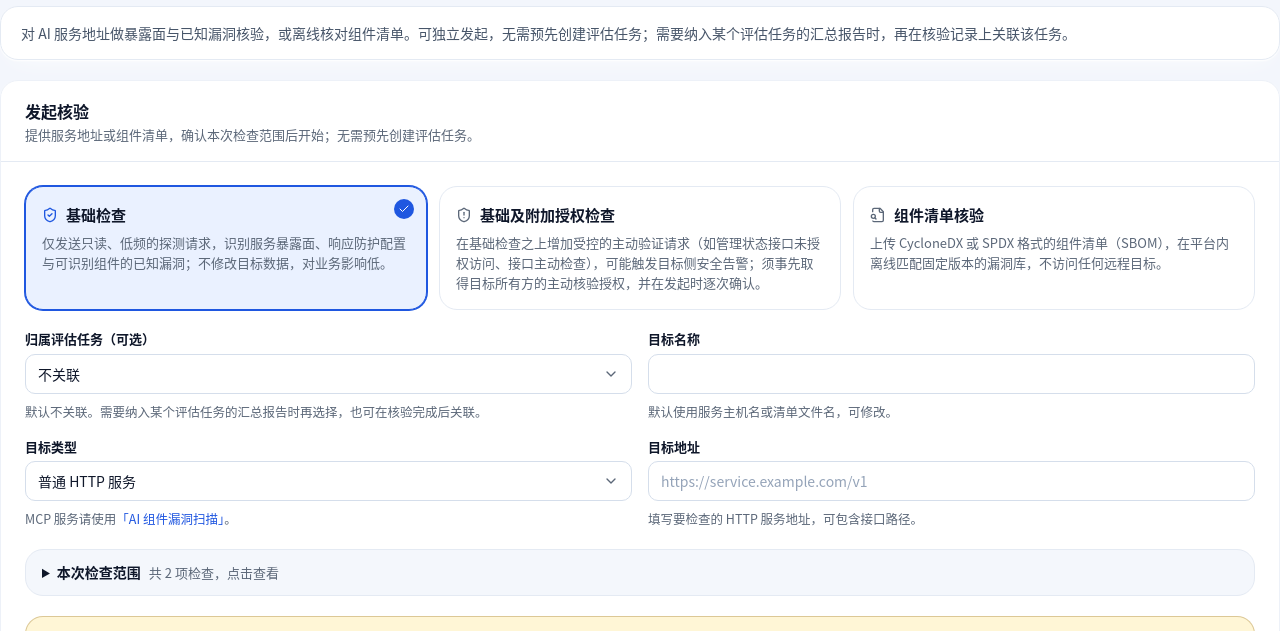
Scenario: ServiceAssurancePage › 列表延迟更新时保持选中新建运行（跨任务：true）
Select "另一归属任务" in the dropdown labelled "归属评估任务（可选）" at (328, 374), box [25,354,632,394]
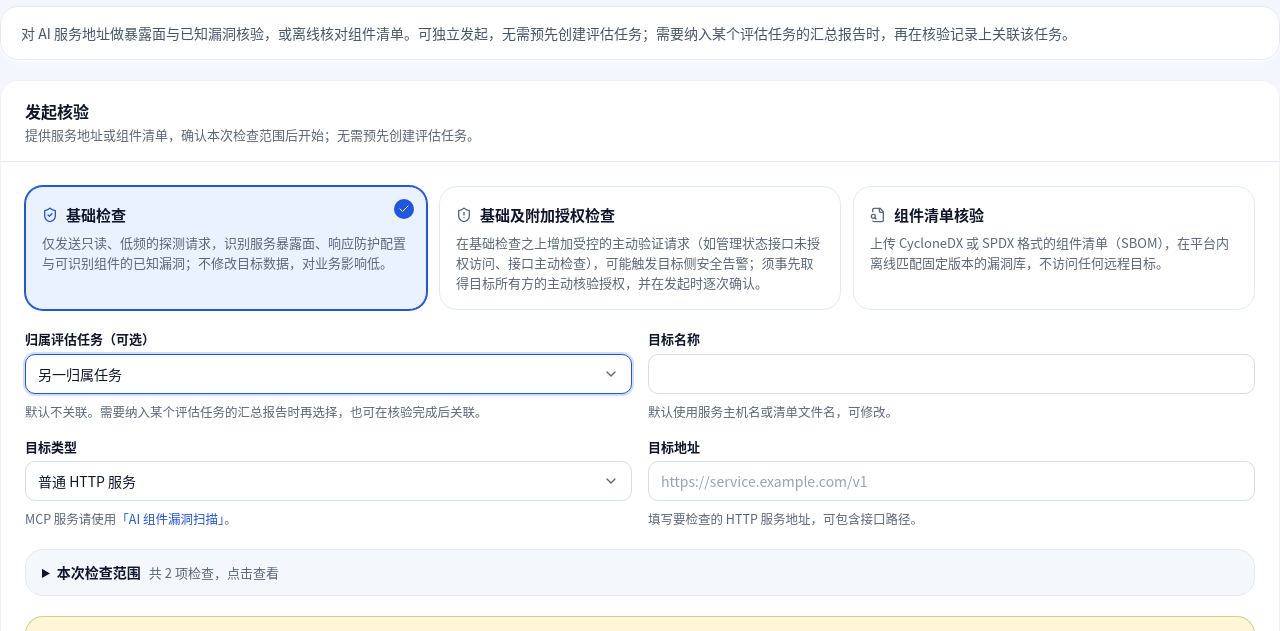
Type "https://customer.example.test/v1" into the field labelled "目标地址".
click(952, 481); type("https://customer.example.test/v1")  # box [648,461,1255,501]
(page scrolled)
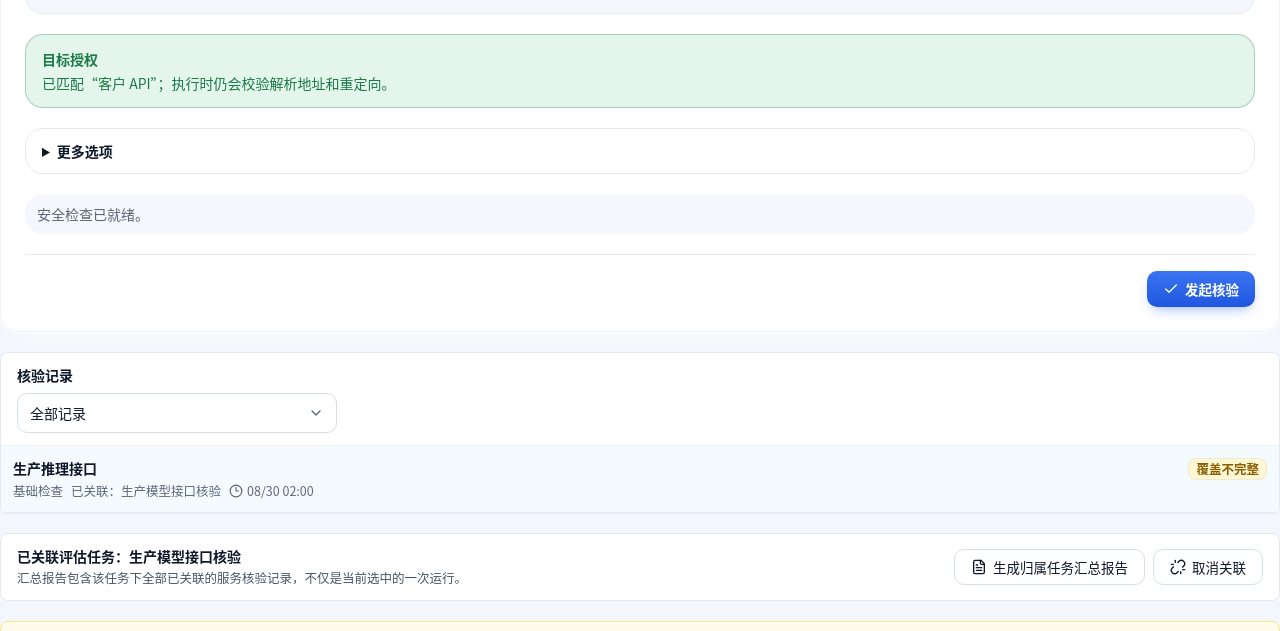
Click the button "发起核验".
click(1201, 289)  # box [1147,271,1255,307]
(page scrolled)
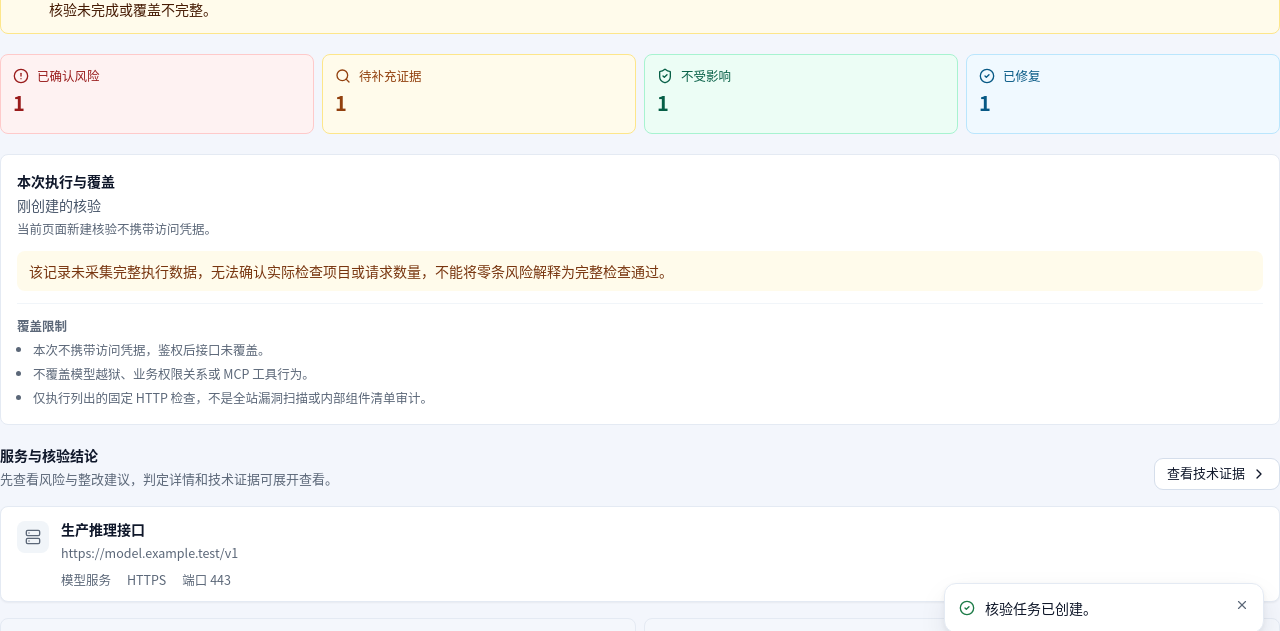
Expected: the element "本次执行与覆盖" shows "刚创建的核验", [17,195,101,215]
